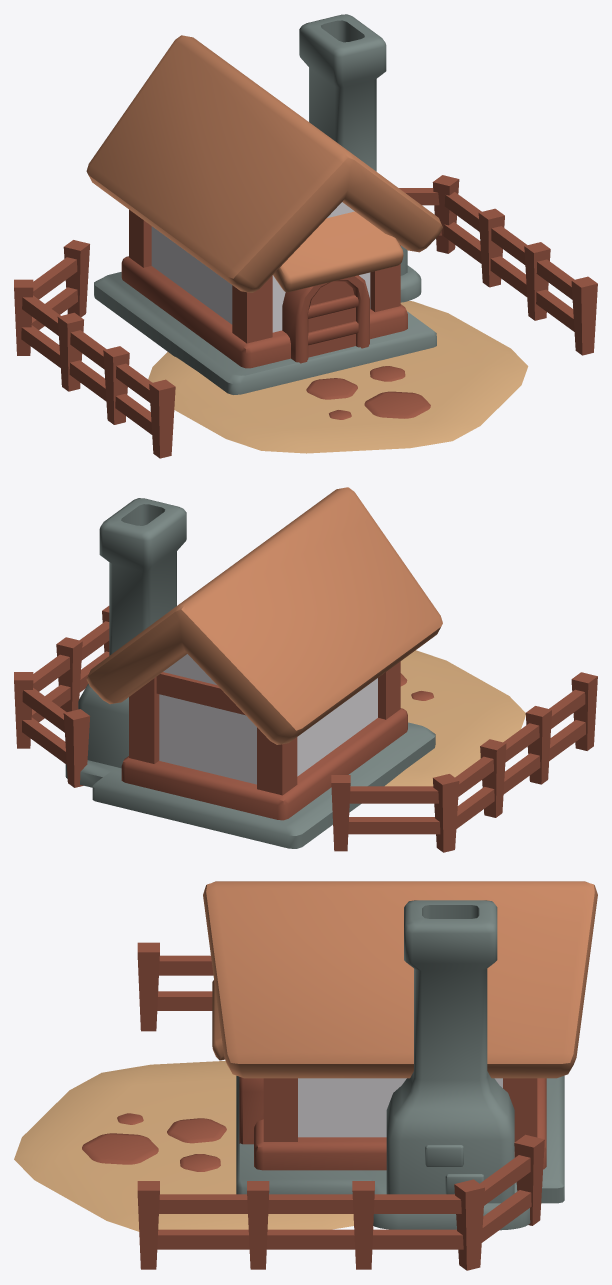
File: kaykit-house.glb
3 renders of one model, top to bottom at view 1: azimuth 30°, elevation 25°; view 2: azimuth 150°, elevation 25°; view 3: azimuth 270°, elevation 25°, orthographic. The views are drawn at different scales.
Visible parts, largest first — view 1: house; view 2: house; view 3: house.
Part boxes in pixels (<box>): house: <box>14,14,597,458</box>; house: <box>14,487,597,852</box>; house: <box>14,881,597,1270</box>.
Bounding box in the file's own units: 1.69 × 0.9138 × 1.66.
Materials: 2 (2 with a texture image).
